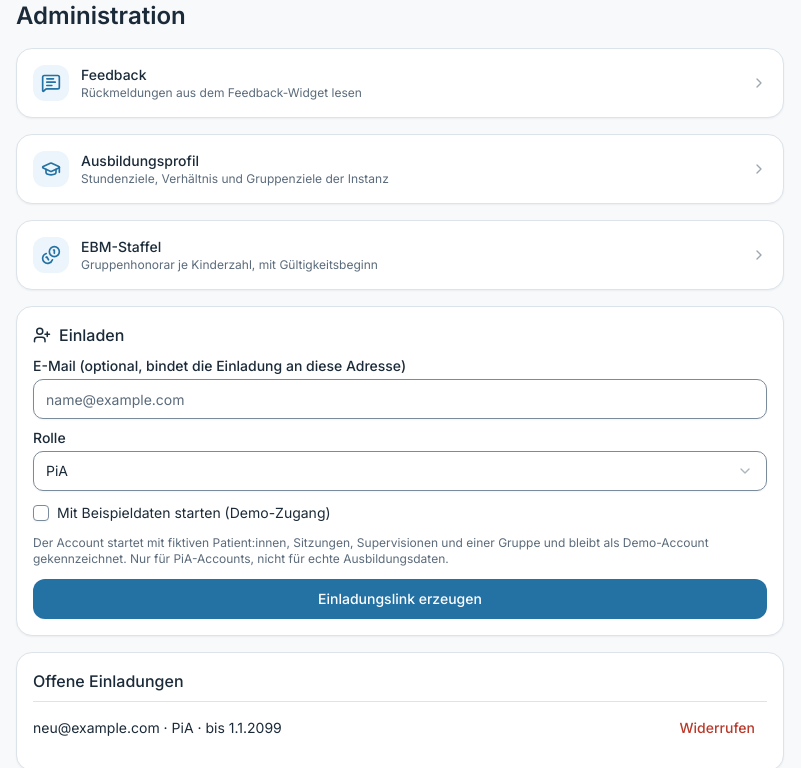
Test: AdminClient › fängt einen abgelehnten Aufruf (Netz weg) beim Widerrufen ab und zeigt die Meldung in der Zeile
Click the button "Widerrufen" at (717, 728), box [668,710,767,746]
(page scrolled)
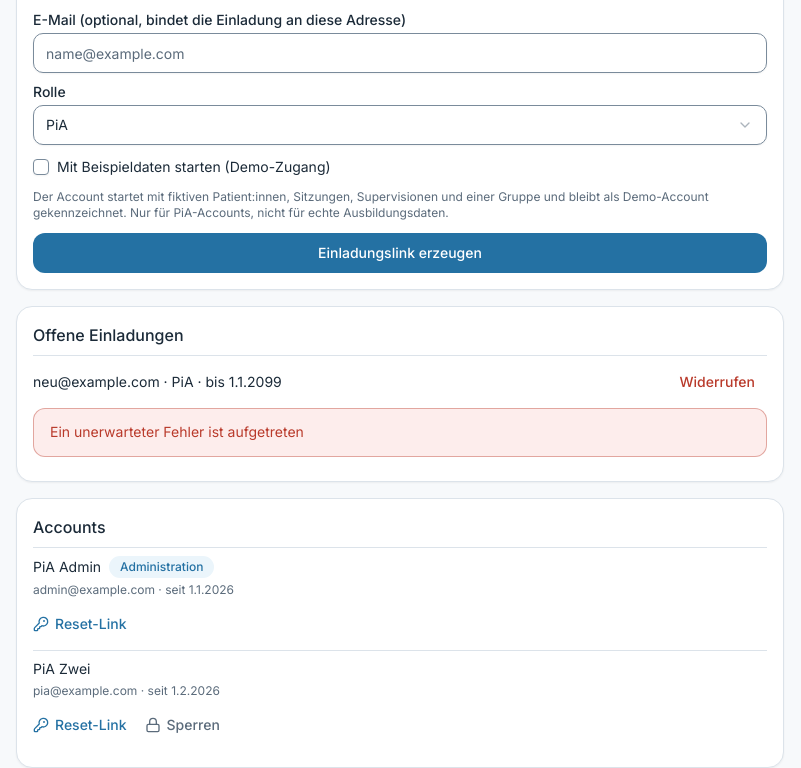
Now the message reads "Ein unerwarteter Fehler ist aufgetreten", box [50,423,304,440]
Now the message "Ein unerwarteter Fehler ist aufgetreten" is shown, box [33,408,767,457]
